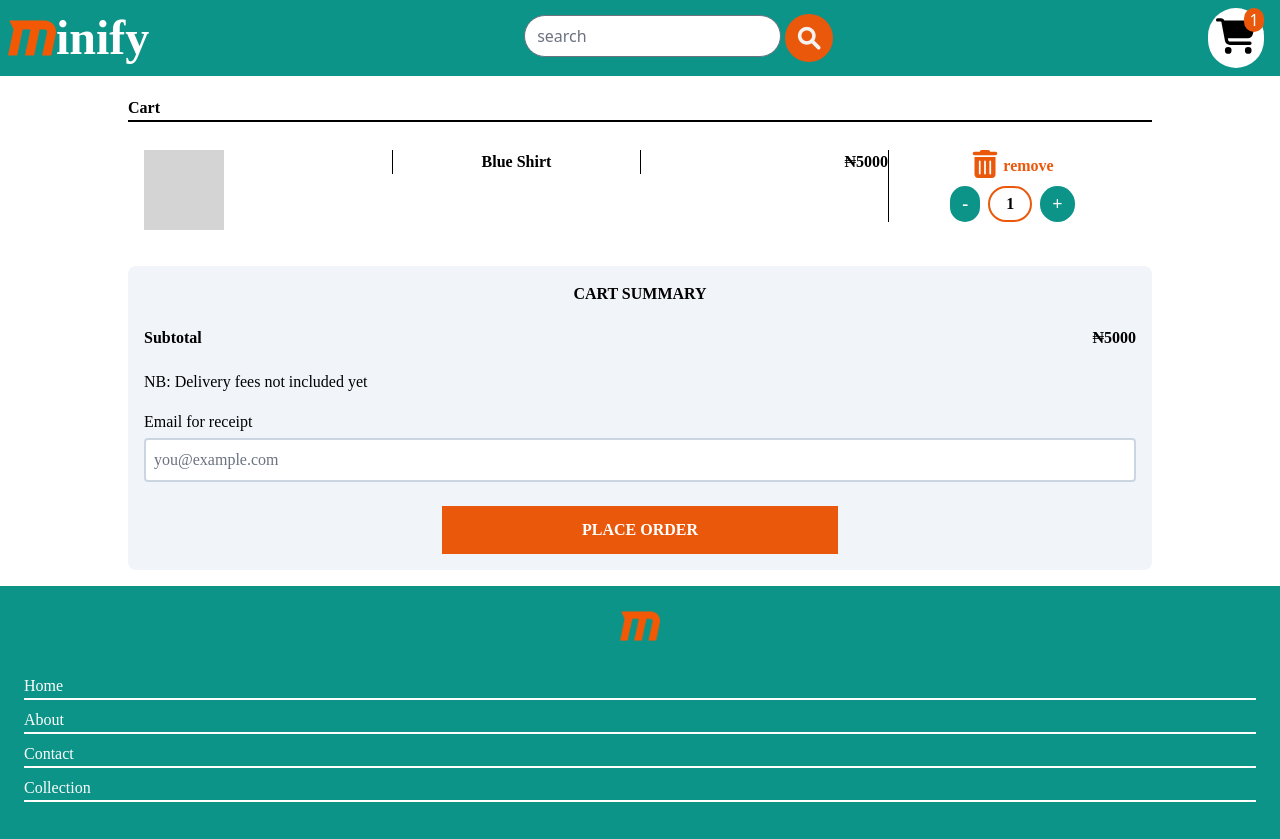
Test case: Cart › removes the item when remove is clicked
The width and height of the screenshot is (1280, 839).
Expected: the text "Blue Shirt" is shown, [482,153,551,170]
Click the button "remove".
click(1012, 164)  # box [971,150,1054,178]
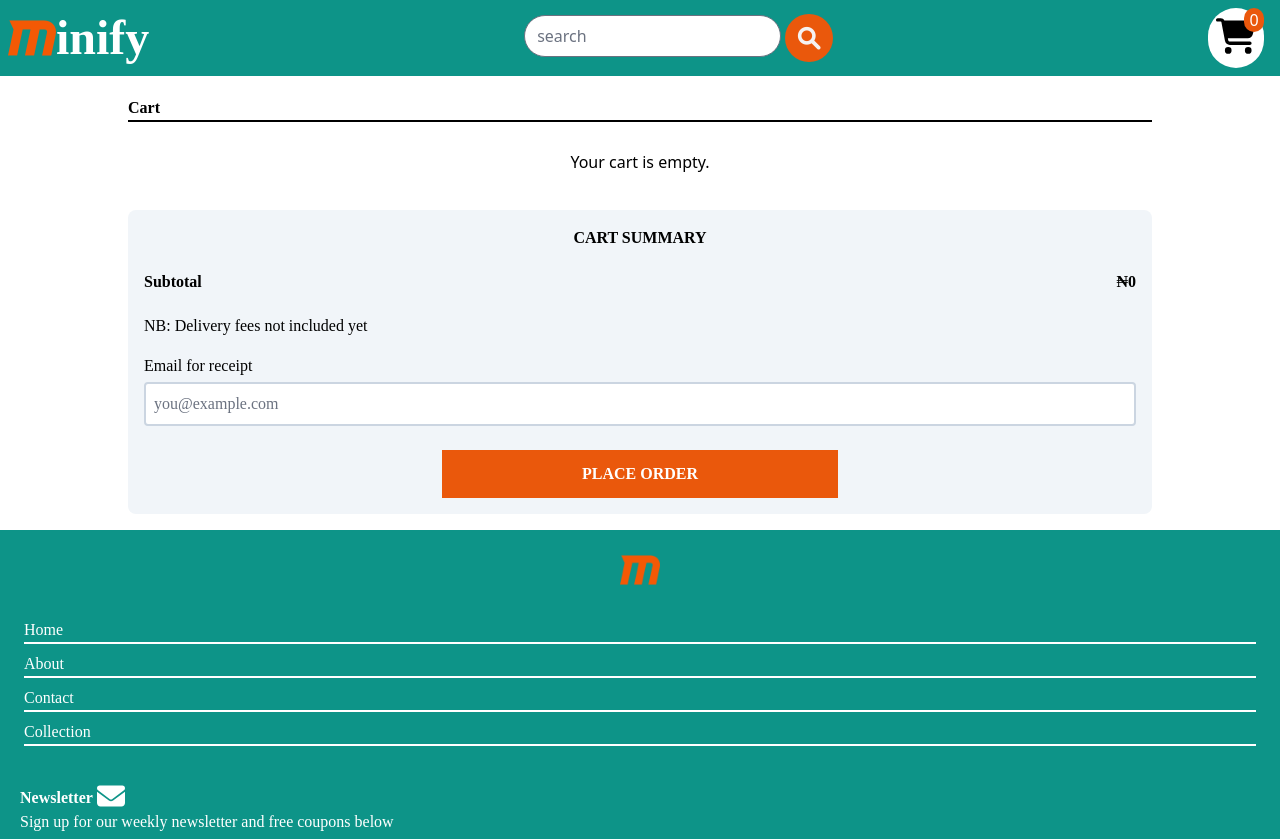
Expected: the text "Blue Shirt" is gone
